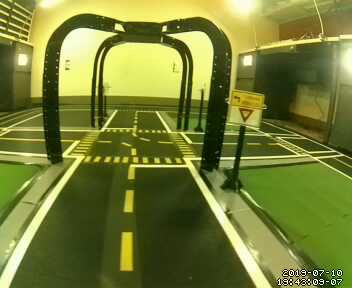Turn Yield: (227, 89, 265, 131)
